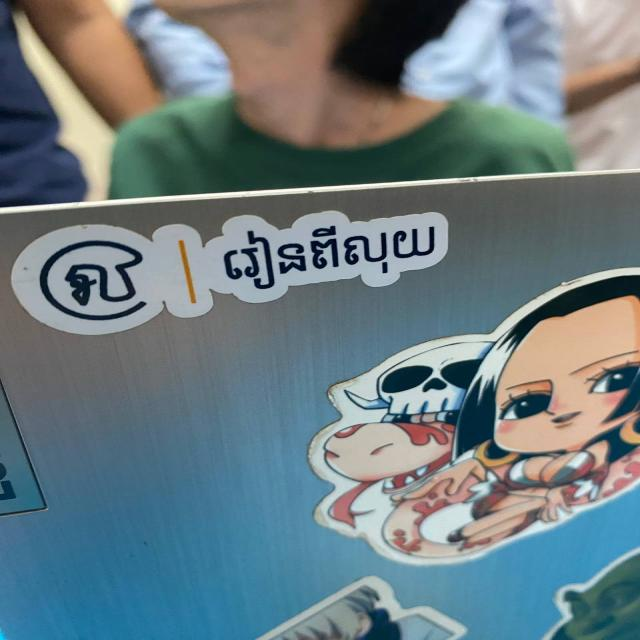Yolov11_80vkh: (210, 216, 445, 300)
